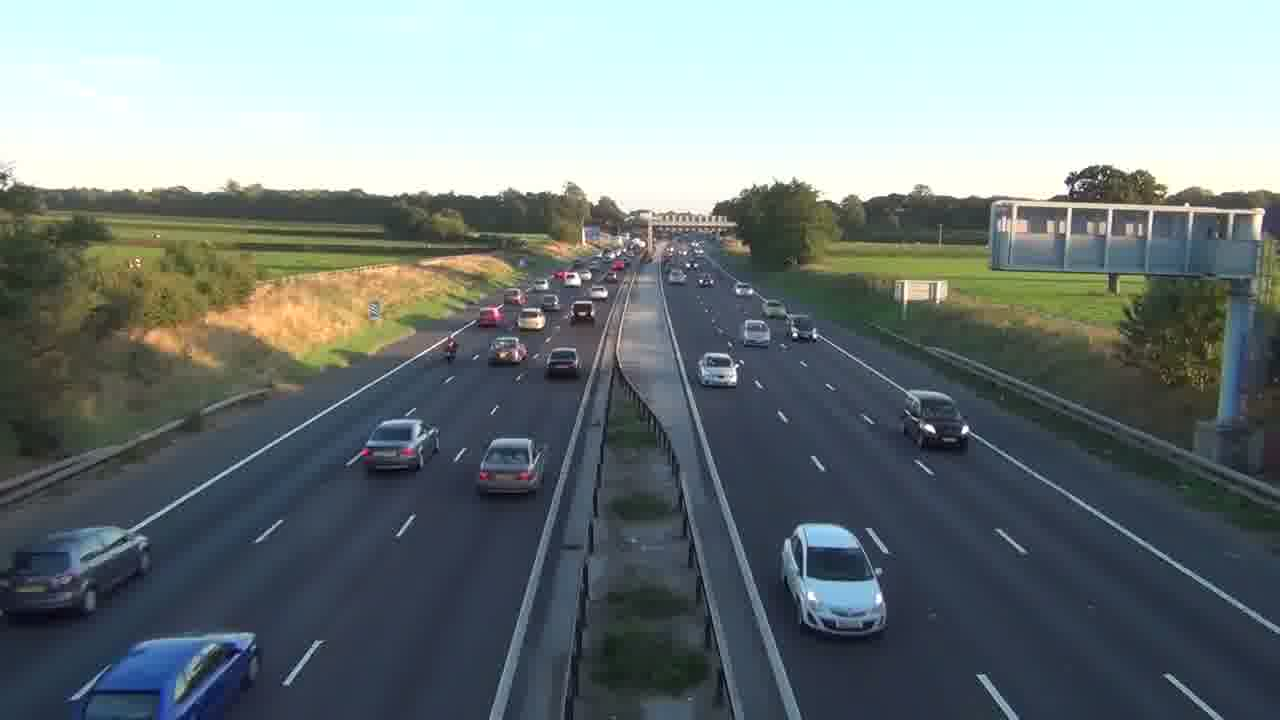car: (780, 521, 890, 640), (475, 435, 547, 497), (900, 389, 971, 450), (361, 418, 439, 472), (696, 351, 744, 389), (489, 334, 529, 366), (544, 347, 580, 379)
truck: (65, 628, 262, 718), (0, 525, 152, 618), (900, 389, 971, 450)
